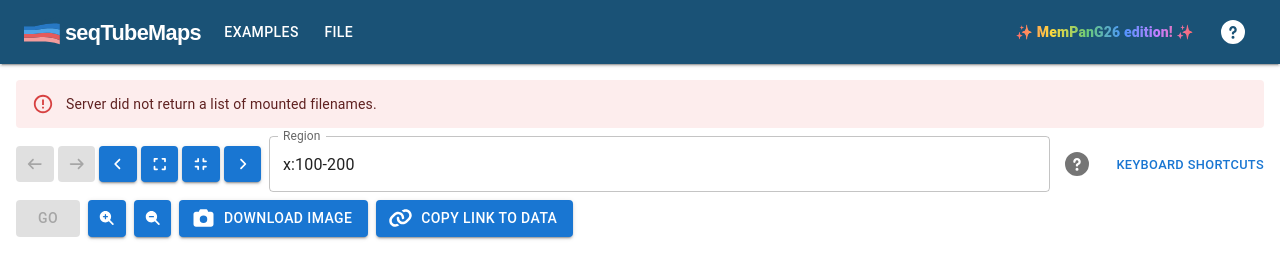
Test: disables Go until the form describes something new
The image size is (1280, 257).
Expected: the button "Go" is disabled, [16,200,80,236]
Replace the text in the dropdown labelled "Region" with "x:300-400" at (645, 164), box [278,145,1011,183]
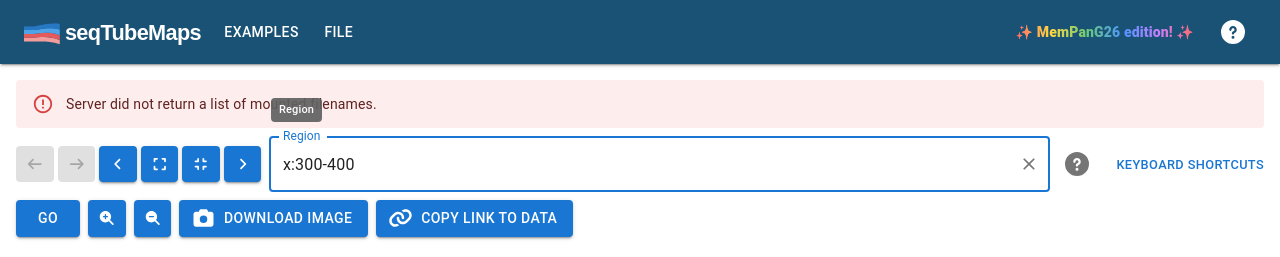
Result: the button "Go" is enabled at [16,200,80,236]
